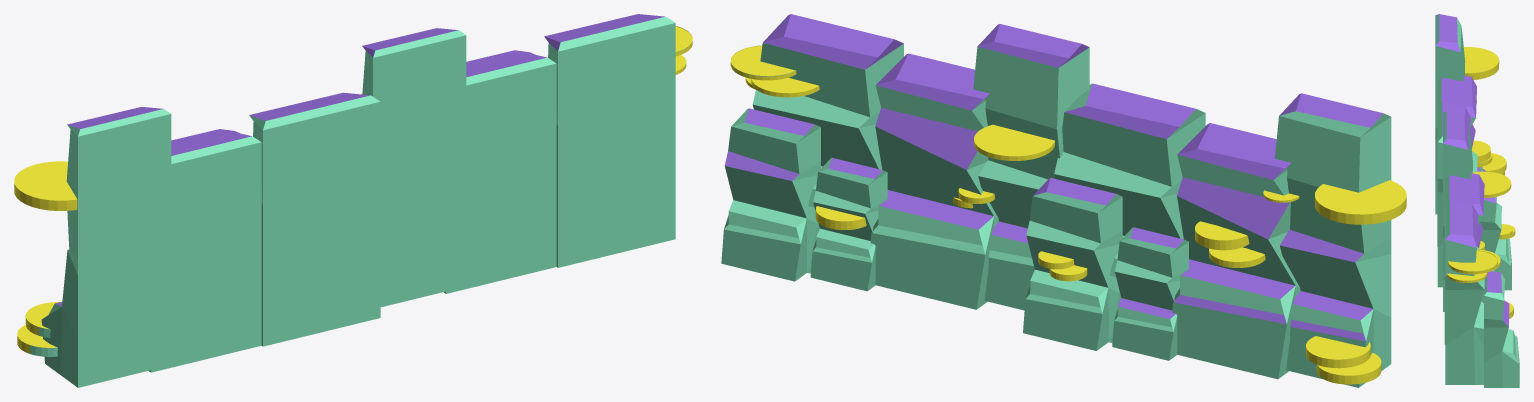
File: cliff2_green_grass.glb
The picture shows the model from 3 angles, left to right: view 1: azimuth 30°, elevation 25°; view 2: azimuth 150°, elevation 25°; view 3: azimuth 270°, elevation 25°; orthographic projection. The views are drawn at different scales.
Parts seen in each view (by area): view 1: Cube; view 2: Cube; view 3: Cube.
Boxes of the visible parts, x1,y1,x2,y2 form: Cube: [14, 14, 692, 387]; Cube: [721, 14, 1406, 387]; Cube: [1435, 14, 1519, 387].
Bounding box in the file's own units: 179 × 66.75 × 28.92.
